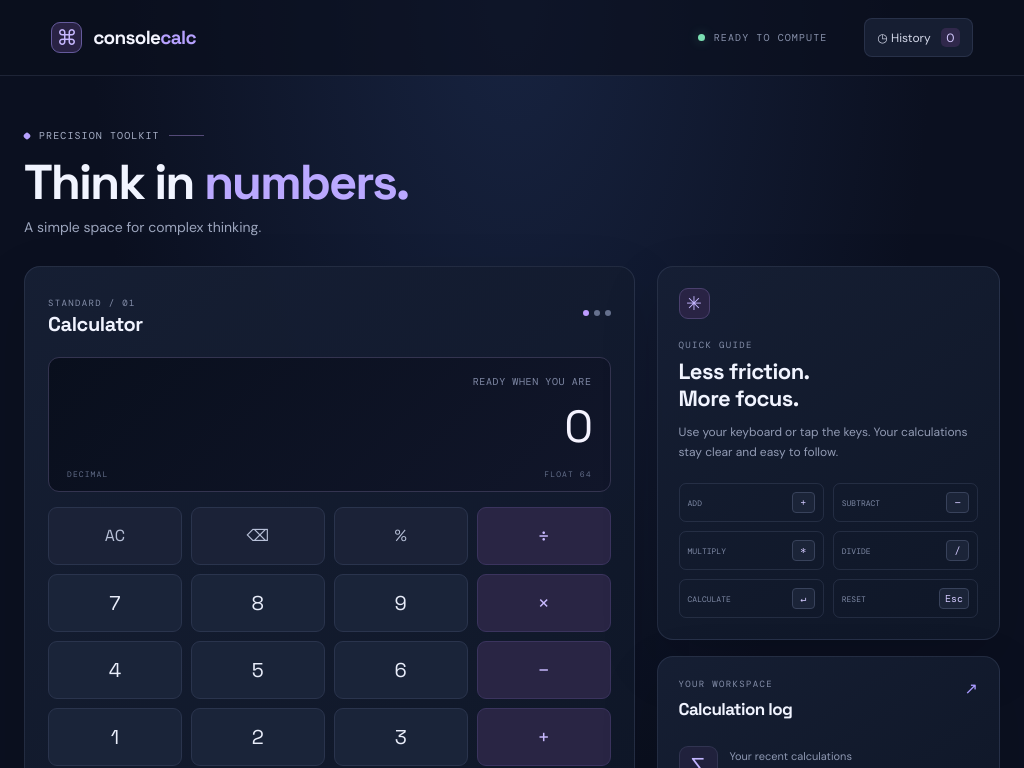
Test: Calculator UI › renders the keypad and performs addition
Click the button "2". click: (258, 737)
box: [191,708,325,766]
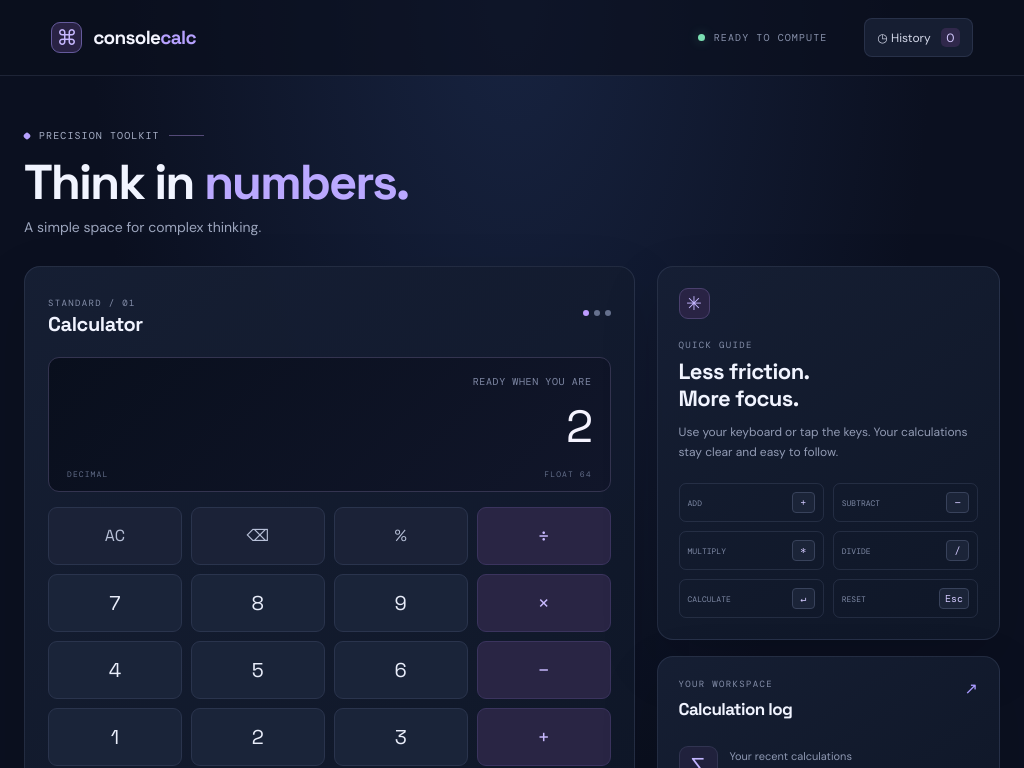
Click the button "+". click: (544, 737)
box: [477,708,611,766]
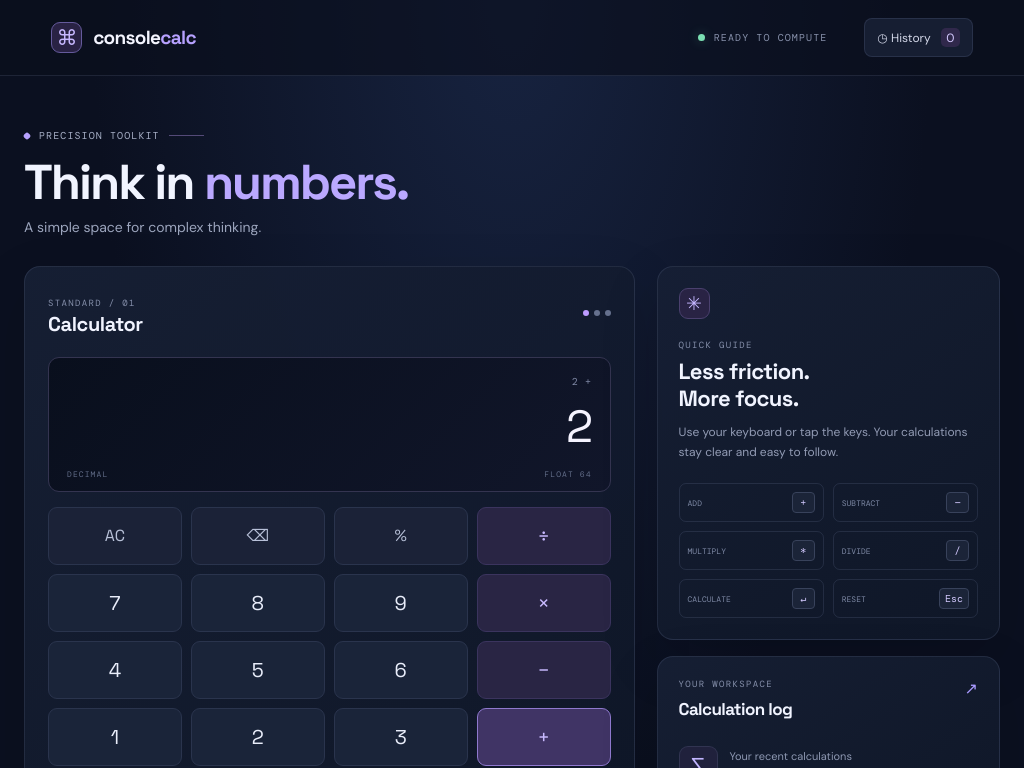
Click the button "3". click: (401, 737)
box: [334,708,468,766]
(page scrolled)
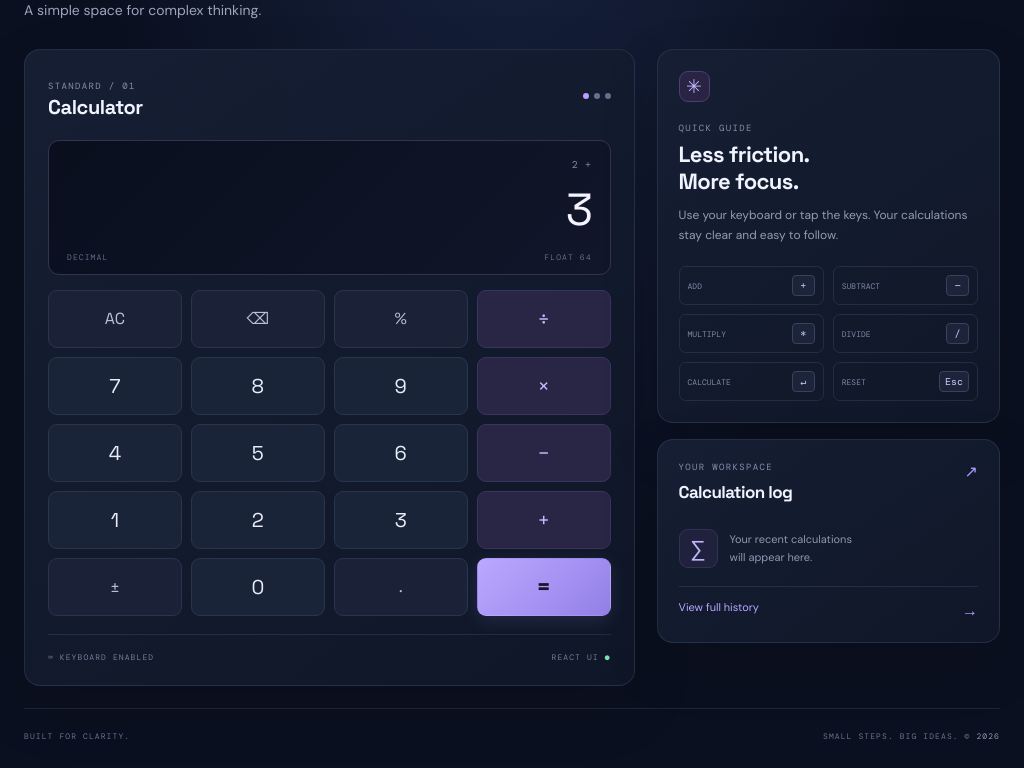
Click the button "=". click: (544, 587)
box: [477,558,611,616]
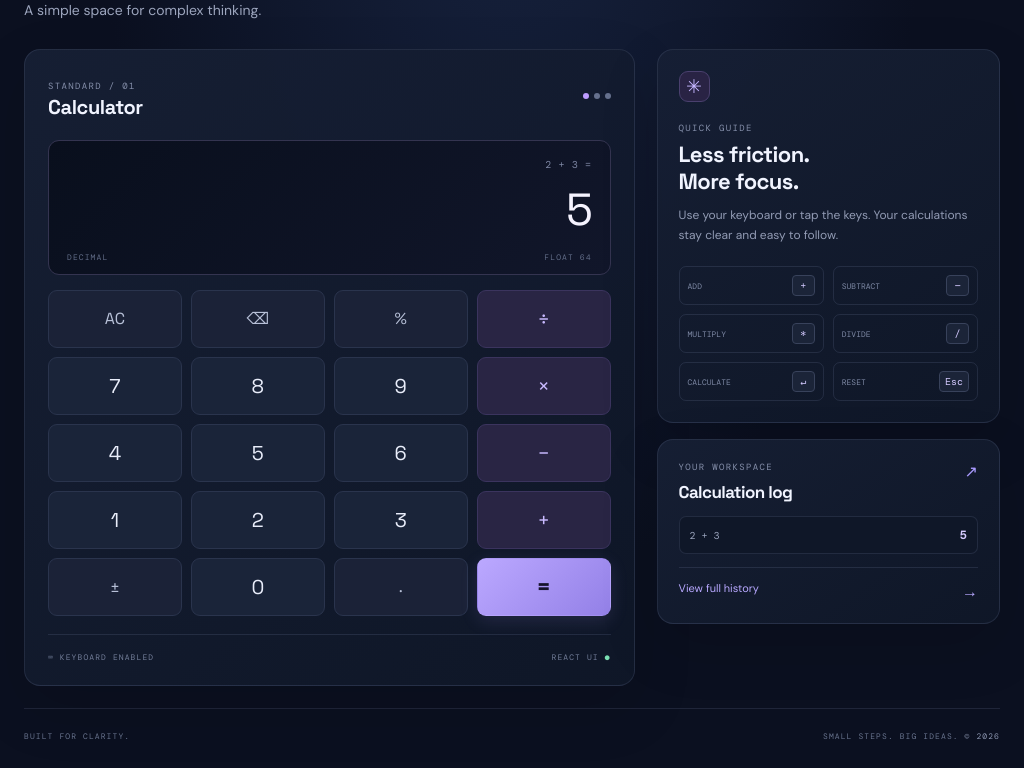
Now the text "5" below "2 + 3 =" is shown, box [566,181,592,238]
Now the text "2 + 3 =" is shown, box [545,158,592,171]
